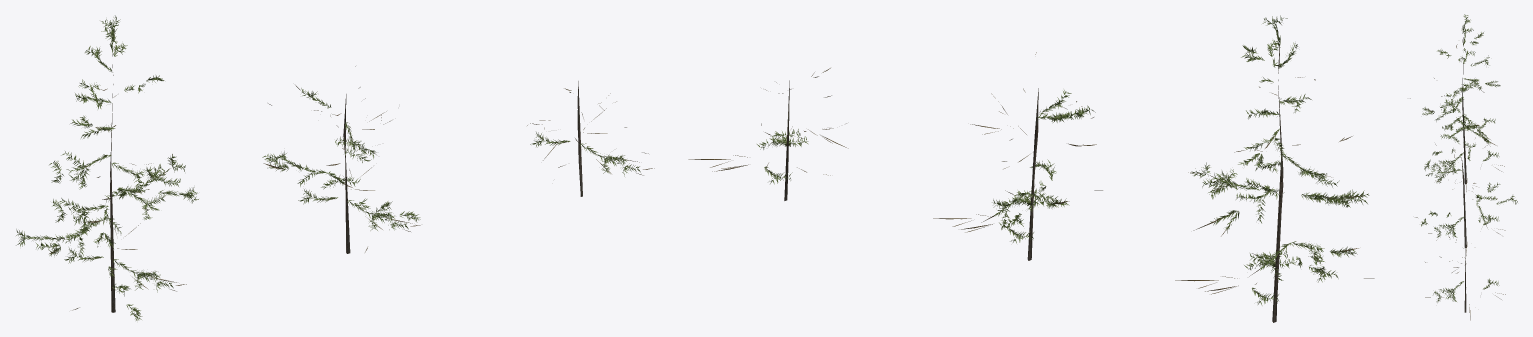
The model's file is fir_sapling.glb.
3 renders of one model, left to right at view 1: azimuth 30°, elevation 25°; view 2: azimuth 150°, elevation 25°; view 3: azimuth 270°, elevation 25°, orthographic. The views are drawn at different scales.
Visible parts, largest first — view 1: fir_sapling; view 2: fir_sapling; view 3: fir_sapling.
Part boxes in pixels (<box>): fir_sapling: <box>16,15,654,320</box>; fir_sapling: <box>688,15,1374,322</box>; fir_sapling: <box>1410,14,1517,320</box>.
Size of the model in its own units: 2.63 by 1.21 by 0.7353.
2 materials, 2 textured.
